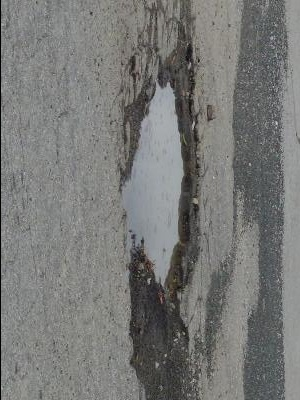pothole: (118, 41, 207, 308)
